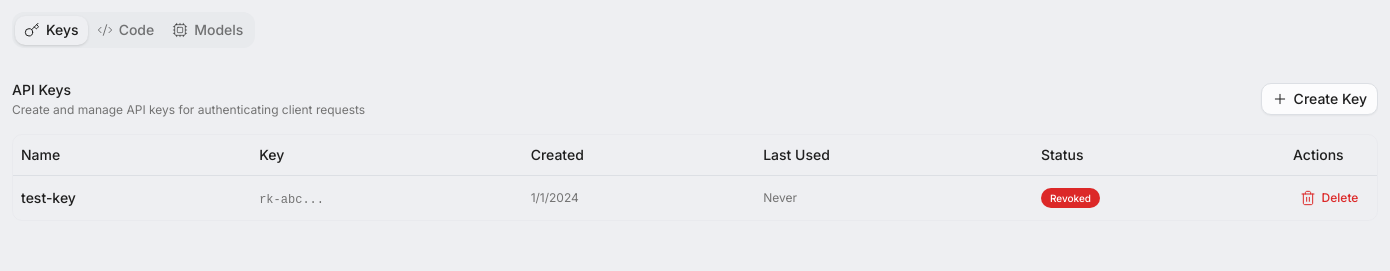
Test case: ApiKeysSection › handleAction — delete › fetch failure → shows error feedback to user
Click the button "Delete" at (1329, 198), box x1=1293 y1=184 x2=1365 y2=212
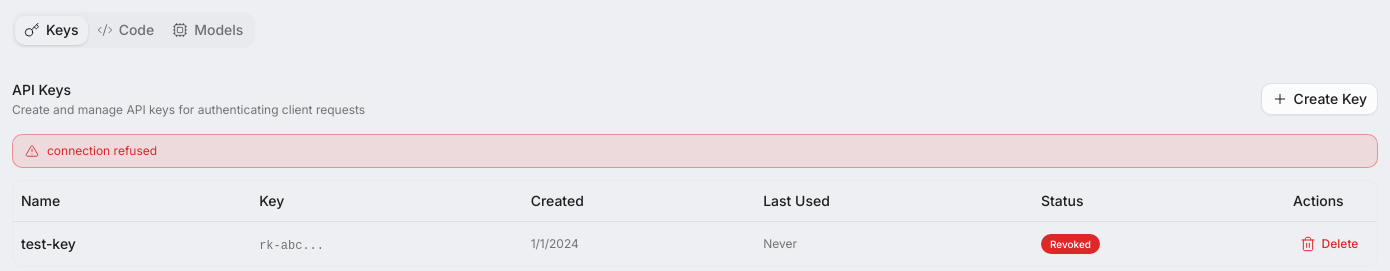
Check: the text "connection refused" is shown, box x1=47 y1=143 x2=157 y2=159
